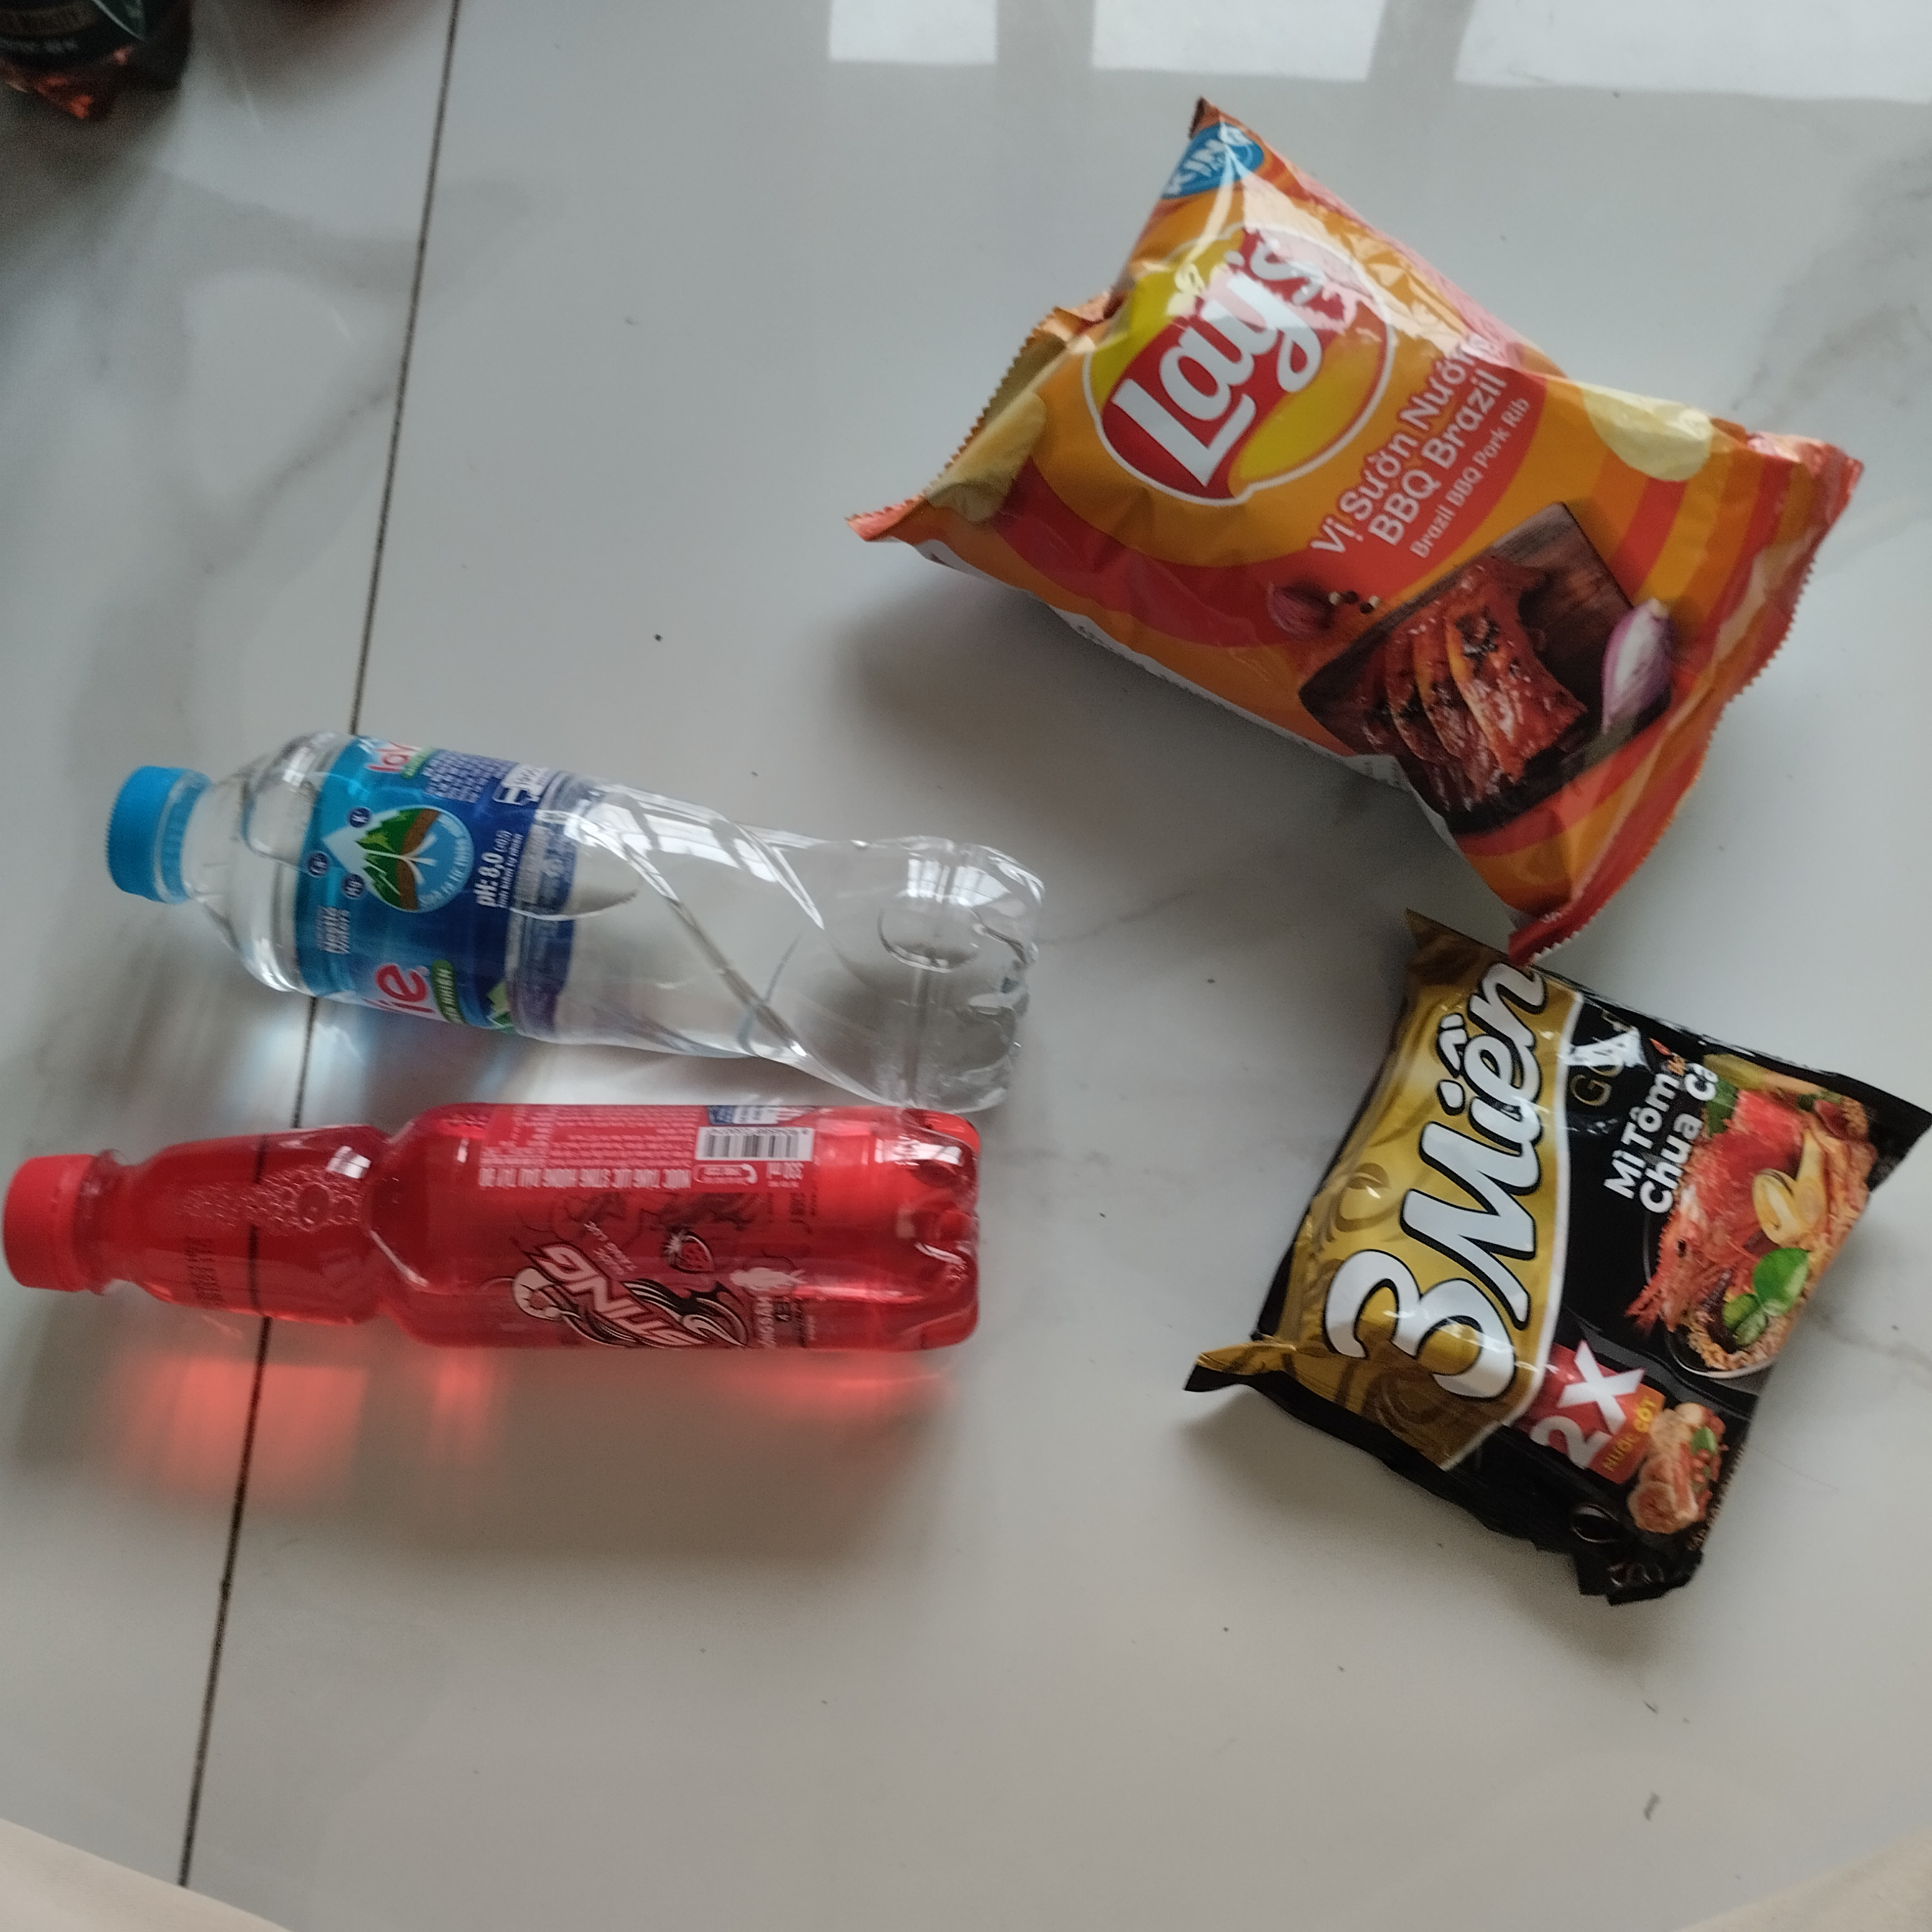3mien: (1155, 881, 1930, 1631)
Lavie: (76, 741, 1054, 1116)
Lays: (846, 80, 1874, 987)
Sting: (7, 1095, 1005, 1394)
